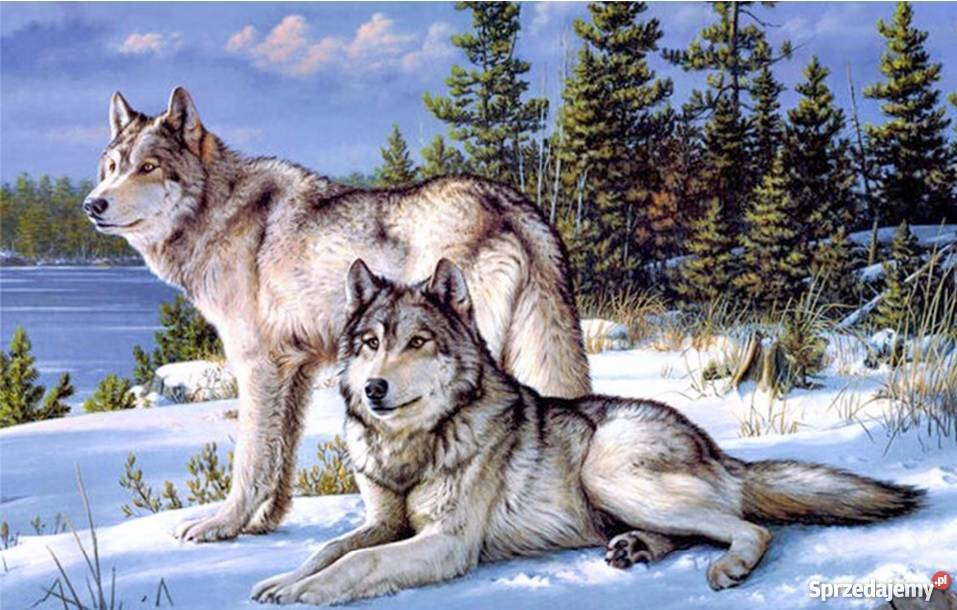wolf: (80, 108, 592, 507), (203, 285, 905, 575)
